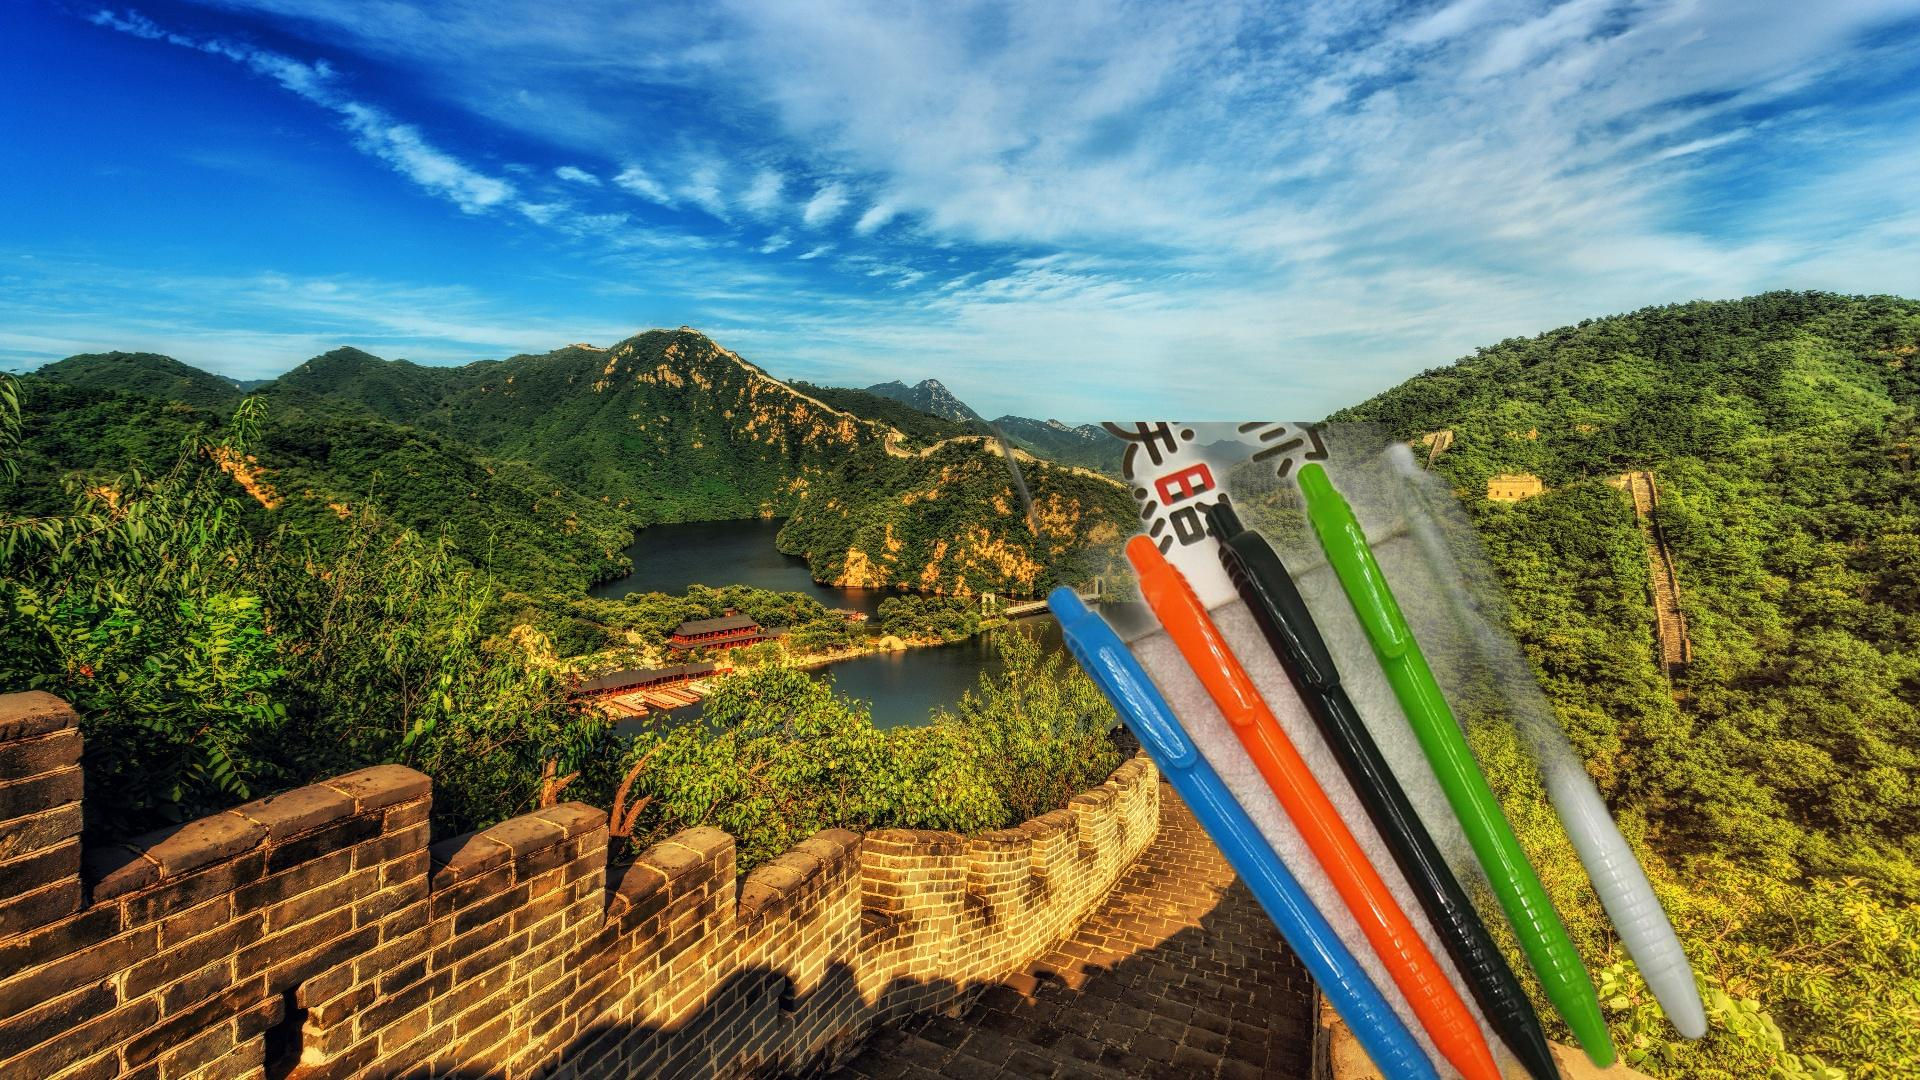penholder: (982, 422, 1716, 1080)
